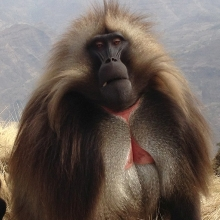Gelada: (45, 15, 194, 220)
